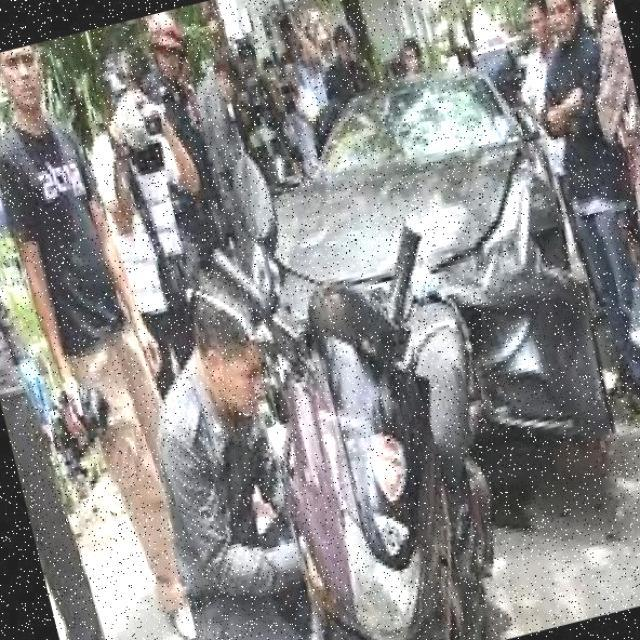accident: (197, 60, 640, 640)
